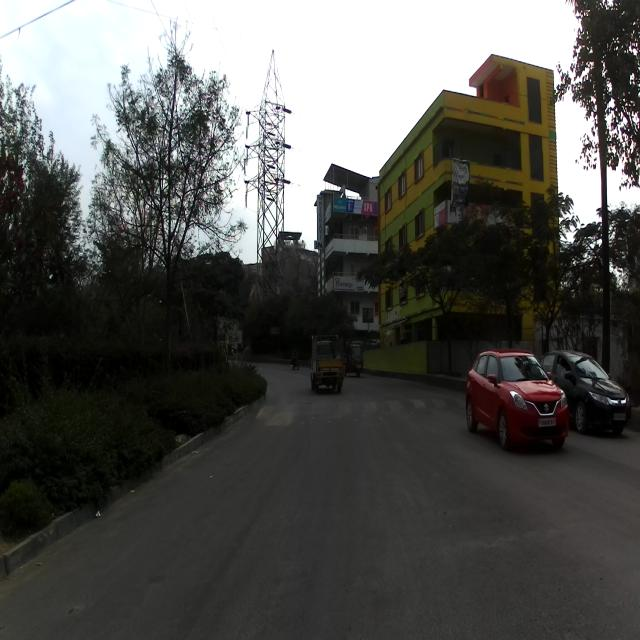car ahead at: (460, 346, 572, 454)
